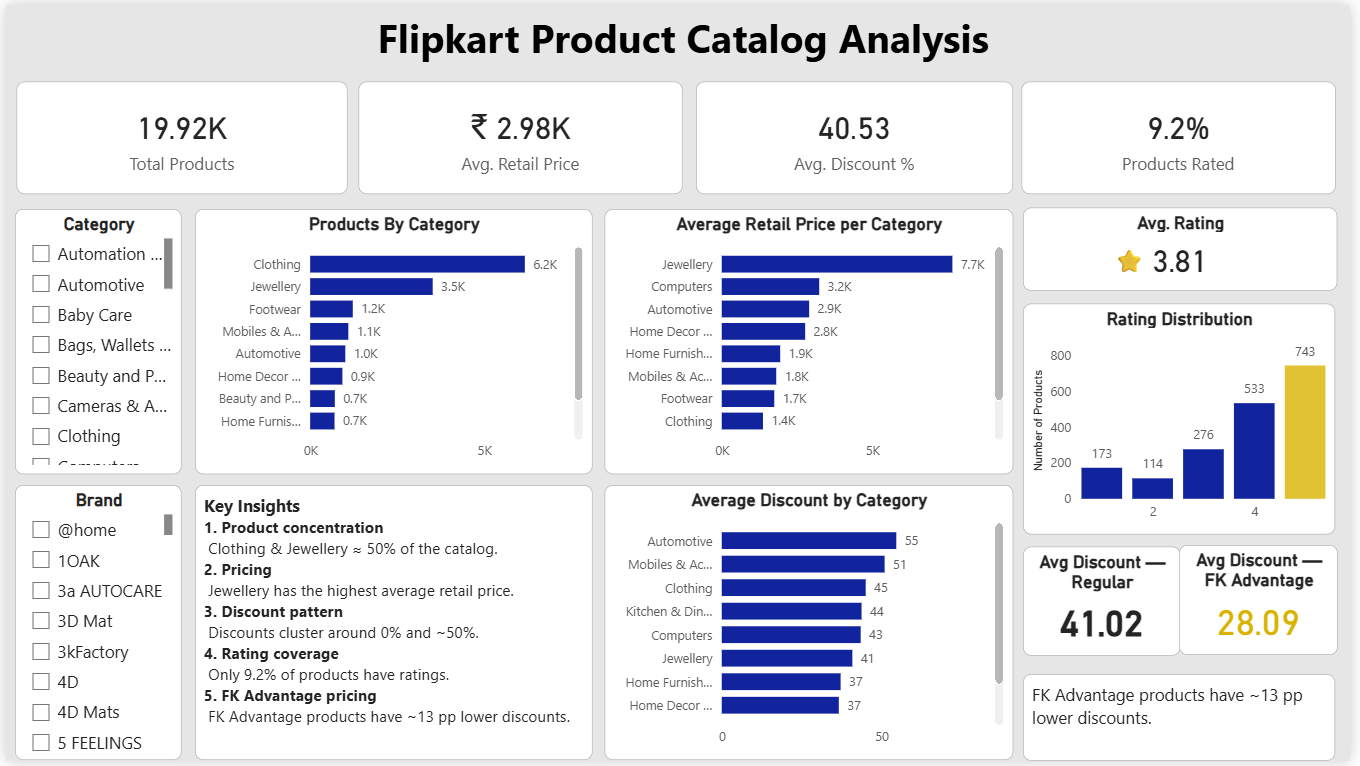

What the dashboard file says about the page in this screenshot:
{"tool":"powerbi","page":{"name":"Overview","canvas":[1280,720],"ordinal":0},"visuals":[{"type":"textbox","box":[9.4,0,1269.9,85],"z":0},{"type":"card","title":"Total Products","fields":{"Values":["CountNonNull(flipkart_cleaned.pid)"]},"box":[9.6,72.7,315.6,107],"z":1000},{"type":"card","fields":{"Values":["Avg(flipkart_cleaned.retail_price)"]},"box":[336.2,72.7,308.8,107],"z":2000},{"type":"card","fields":{"Values":["Avg(flipkart_cleaned.discount_pct)"]},"box":[657.3,72.7,301.9,107],"z":3000},{"type":"card","fields":{"Values":["flipkart_cleaned.% Rated"]},"box":[967.5,72.7,299.2,107],"z":4000},{"type":"clusteredBarChart","title":"Products By Category","fields":{"Category":["flipkart_cleaned.main_category"],"Y":["CountNonNull(flipkart_cleaned.pid)"]},"box":[180.2,193.8,378.6,252.9],"z":5000},{"type":"textbox","box":[180.2,457.3,378.6,262],"z":6000},{"type":"slicer","title":"Category","fields":{"Values":["flipkart_cleaned.main_category"]},"box":[9.1,193.8,159,252.9],"z":7000},{"type":"slicer","title":"Brand","fields":{"Values":["flipkart_cleaned.brand"]},"box":[9.1,457.3,159,262],"z":8000},{"type":"clusteredBarChart","title":"Average Discount by Category","fields":{"Y":["Avg(flipkart_cleaned.discount_pct)"],"Category":["flipkart_cleaned.main_category"]},"box":[569.3,457.3,389.2,262],"z":9000},{"type":"card","title":"Avg Discount — Regular","fields":{"Values":["Avg(flipkart_cleaned.discount_pct)"]},"box":[969.2,515,150,104.1],"z":10000},{"type":"card","title":"Avg Discount — FK Advantage","fields":{"Values":["Avg(flipkart_cleaned.discount_pct)"]},"box":[1117.6,514.7,151.5,104.4],"z":11000},{"type":"textbox","box":[969.1,636.8,297.1,82.4],"z":12000},{"type":"clusteredBarChart","title":"Average Retail Price per Category","fields":{"Category":["flipkart_cleaned.main_category"],"Y":["Avg(flipkart_cleaned.retail_price)"]},"box":[569.3,193.8,389.2,252.9],"z":13000},{"type":"card","title":"Avg. Rating","fields":{"Values":["Avg(flipkart_cleaned.product_rating)"]},"box":[968.9,193.5,299.2,79.6],"z":14000},{"type":"clusteredColumnChart","title":"Rating Distribution ","fields":{"Category":["flipkart_cleaned.Rating Bucket"],"Y":["CountNonNull(flipkart_cleaned.pid)"]},"box":[969.2,283.9,297.4,220.3],"z":15000},{"type":"textbox","box":[1044.9,223,47.3,40.6],"z":16000}]}

Visuals, with their boxes in screenshot pixels (x1, y1, x2, y2), scaled from the page's 1280x720 canvas onto the 1360x766 screenshot:
textbox: [x1=10, y1=0, x2=1359, y2=90]
"Total Products" card: [x1=10, y1=77, x2=346, y2=191]
card - Avg(flipkart_cleaned.retail_price): [x1=357, y1=77, x2=685, y2=191]
card - Avg(flipkart_cleaned.discount_pct): [x1=698, y1=77, x2=1019, y2=191]
card - flipkart_cleaned.% Rated: [x1=1028, y1=77, x2=1346, y2=191]
"Products By Category" clusteredBarChart: [x1=191, y1=206, x2=594, y2=475]
textbox: [x1=191, y1=487, x2=594, y2=765]
"Category" slicer: [x1=10, y1=206, x2=179, y2=475]
"Brand" slicer: [x1=10, y1=487, x2=179, y2=765]
"Average Discount by Category" clusteredBarChart: [x1=605, y1=487, x2=1018, y2=765]
"Avg Discount — Regular" card: [x1=1030, y1=548, x2=1189, y2=659]
"Avg Discount — FK Advantage" card: [x1=1187, y1=548, x2=1348, y2=659]
textbox: [x1=1030, y1=677, x2=1345, y2=765]
"Average Retail Price per Category" clusteredBarChart: [x1=605, y1=206, x2=1018, y2=475]
"Avg. Rating" card: [x1=1029, y1=206, x2=1347, y2=291]
"Rating Distribution " clusteredColumnChart: [x1=1030, y1=302, x2=1346, y2=536]
textbox: [x1=1110, y1=237, x2=1160, y2=280]
